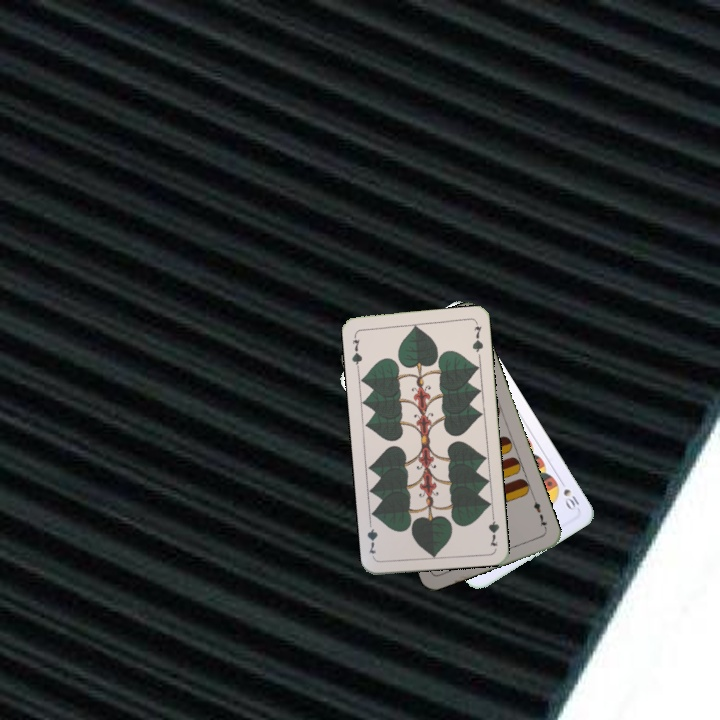E7: (529, 494, 550, 533)
G7: (484, 508, 502, 549), (348, 331, 364, 371)
S10: (555, 475, 582, 513)
